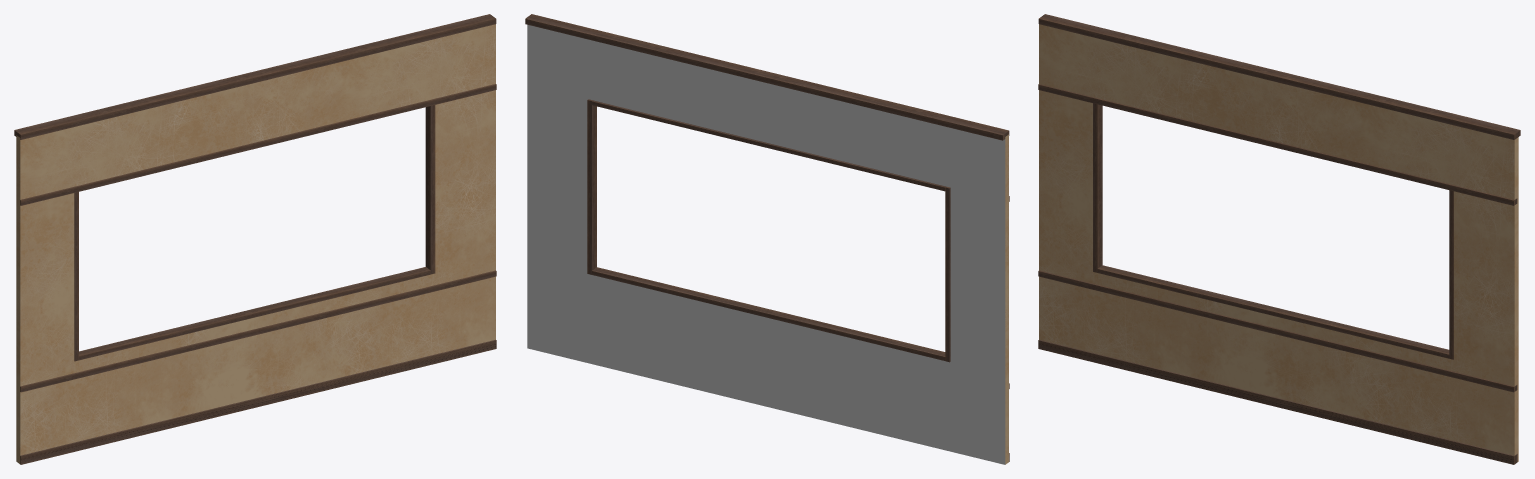
File: jov_outwall01_2t.mado_d1.fbx
The picture shows the model from 3 angles, left to right: view 1: azimuth 30°, elevation 25°; view 2: azimuth 150°, elevation 25°; view 3: azimuth 330°, elevation 25°; orthographic projection.
Parts seen in each view (by area): view 1: jov_outwall01_2t.mado_d1; view 2: jov_outwall01_2t.mado_d1; view 3: jov_outwall01_2t.mado_d1.
Part boxes in pixels (box(x1,y1,x2,y2)): jov_outwall01_2t.mado_d1: box(14, 14, 496, 464); jov_outwall01_2t.mado_d1: box(525, 14, 1009, 464); jov_outwall01_2t.mado_d1: box(1038, 14, 1520, 464).
Size of the model in its own units: 440 by 292 by 11.05.
